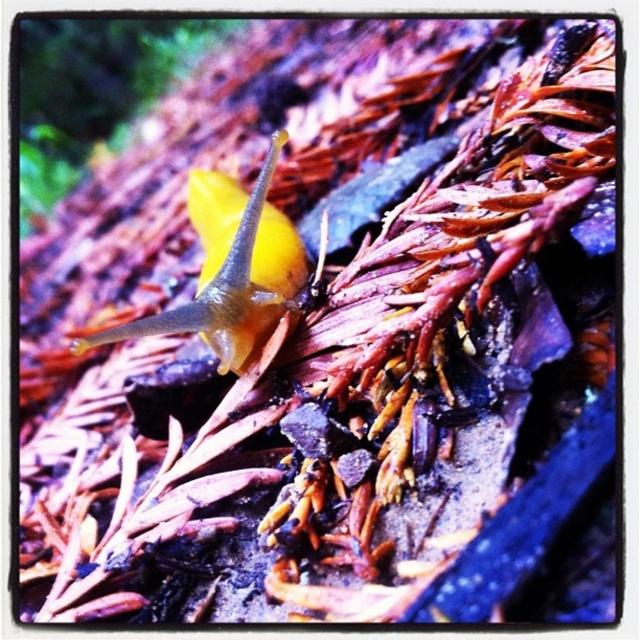Snail: (52, 114, 329, 392)
